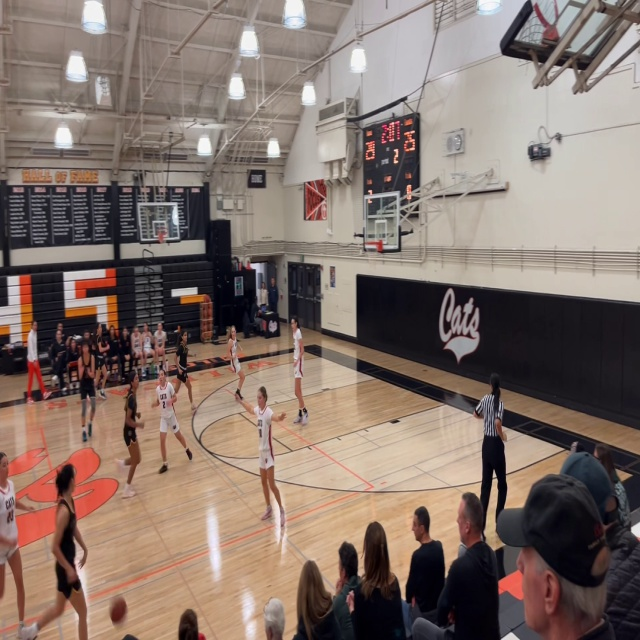Basketball: (109, 595, 127, 623)
